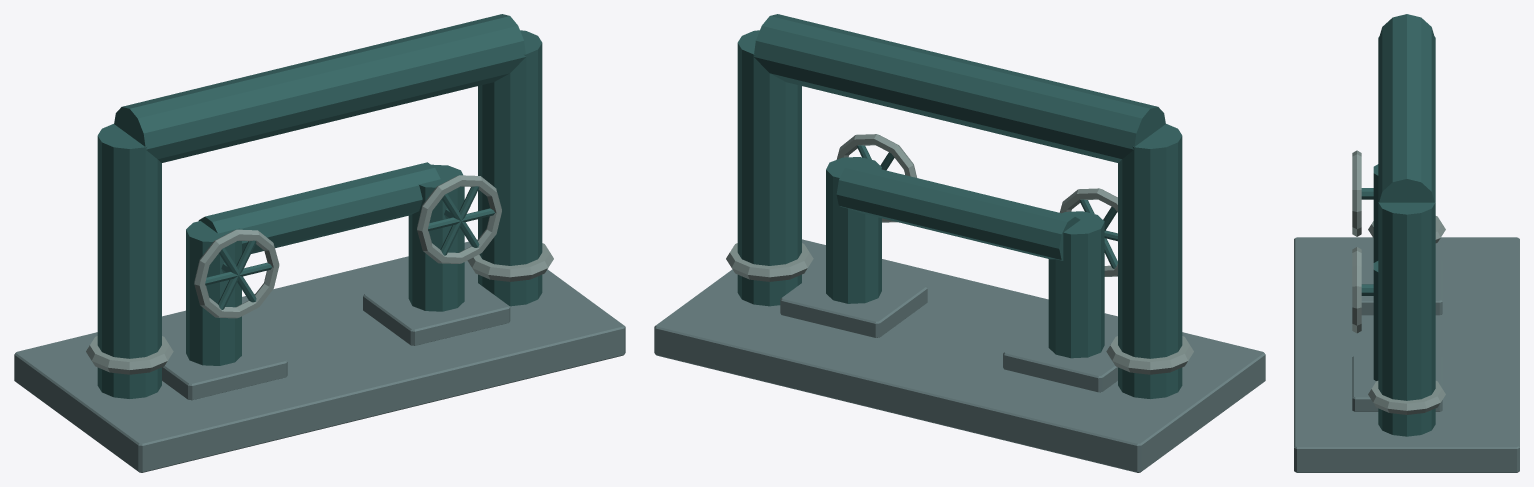
Rendered from valve-manifold.glb.
The picture shows the model from 3 angles, left to right: view 1: azimuth 30°, elevation 25°; view 2: azimuth 150°, elevation 25°; view 3: azimuth 270°, elevation 25°; orthographic projection. The views are drawn at different scales.
Visible parts, largest first — view 1: valve-manifold__body; view 2: valve-manifold__body; view 3: valve-manifold__body.
Boxes of the visible parts, left/top/right/bottom form: valve-manifold__body: left=14, top=14, right=625, bottom=472; valve-manifold__body: left=654, top=14, right=1265, bottom=472; valve-manifold__body: left=1294, top=14, right=1519, bottom=472.
Size of the model in its own units: 2.1 by 1.26 by 0.95.
